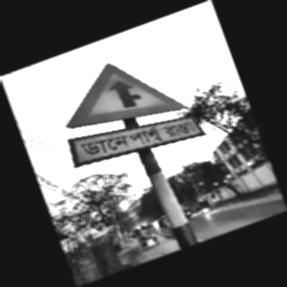Side-road-right: (64, 64, 197, 174)
